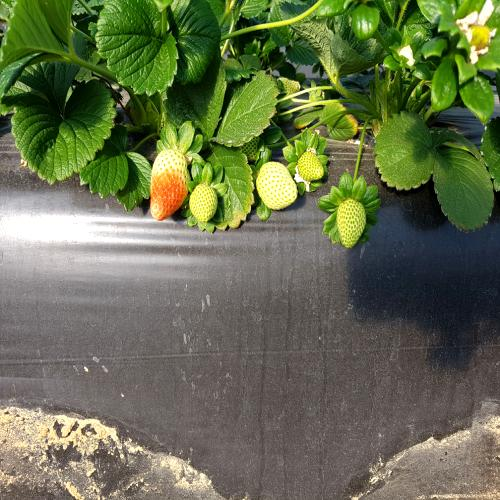partially-ripe: (143, 142, 193, 226)
